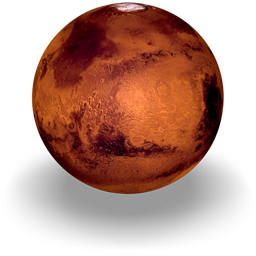planet: (33, 1, 225, 199)
